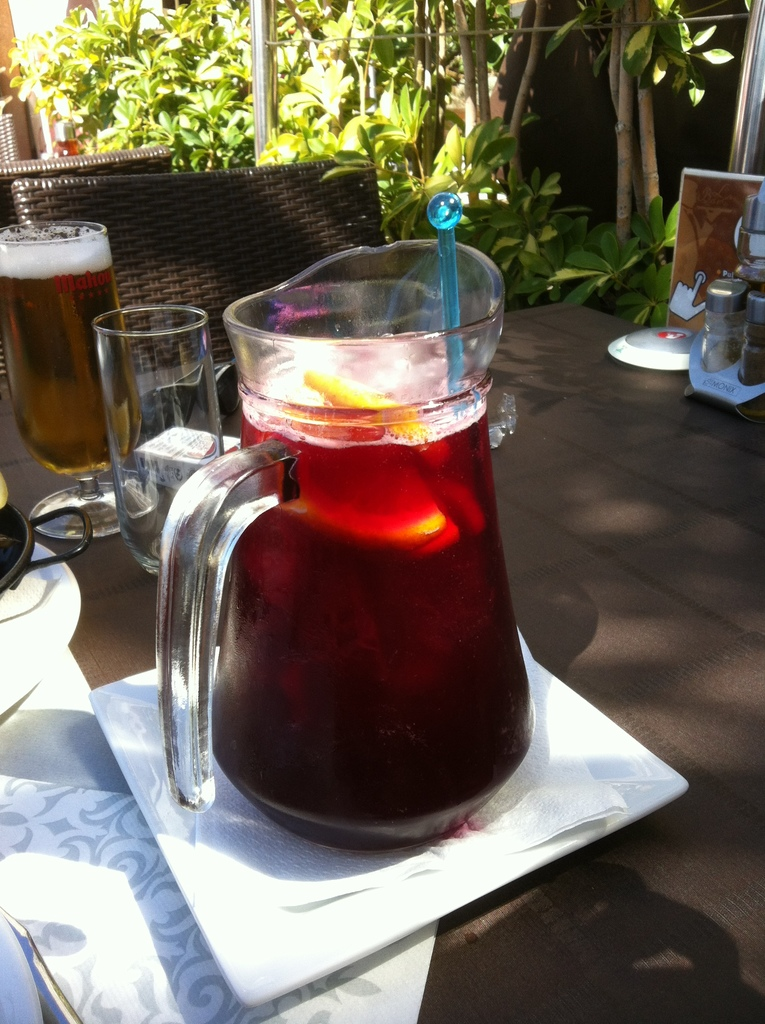Beer: (193, 361, 538, 858)
